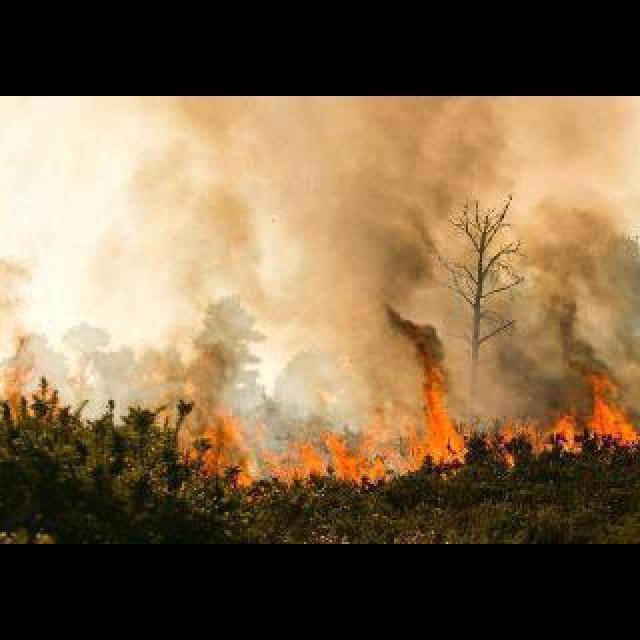Fire: (174, 370, 640, 488)
Smoke: (93, 101, 632, 377)
